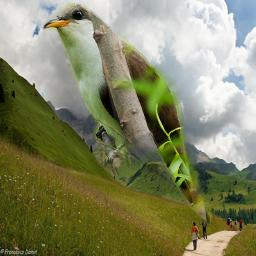Cuckoo: (37, 3, 222, 225)
